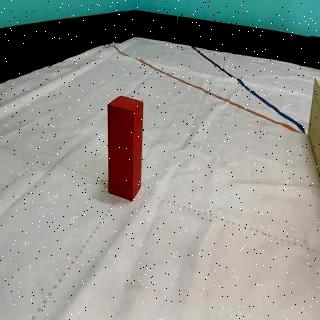redbox: (107, 96, 142, 202)
